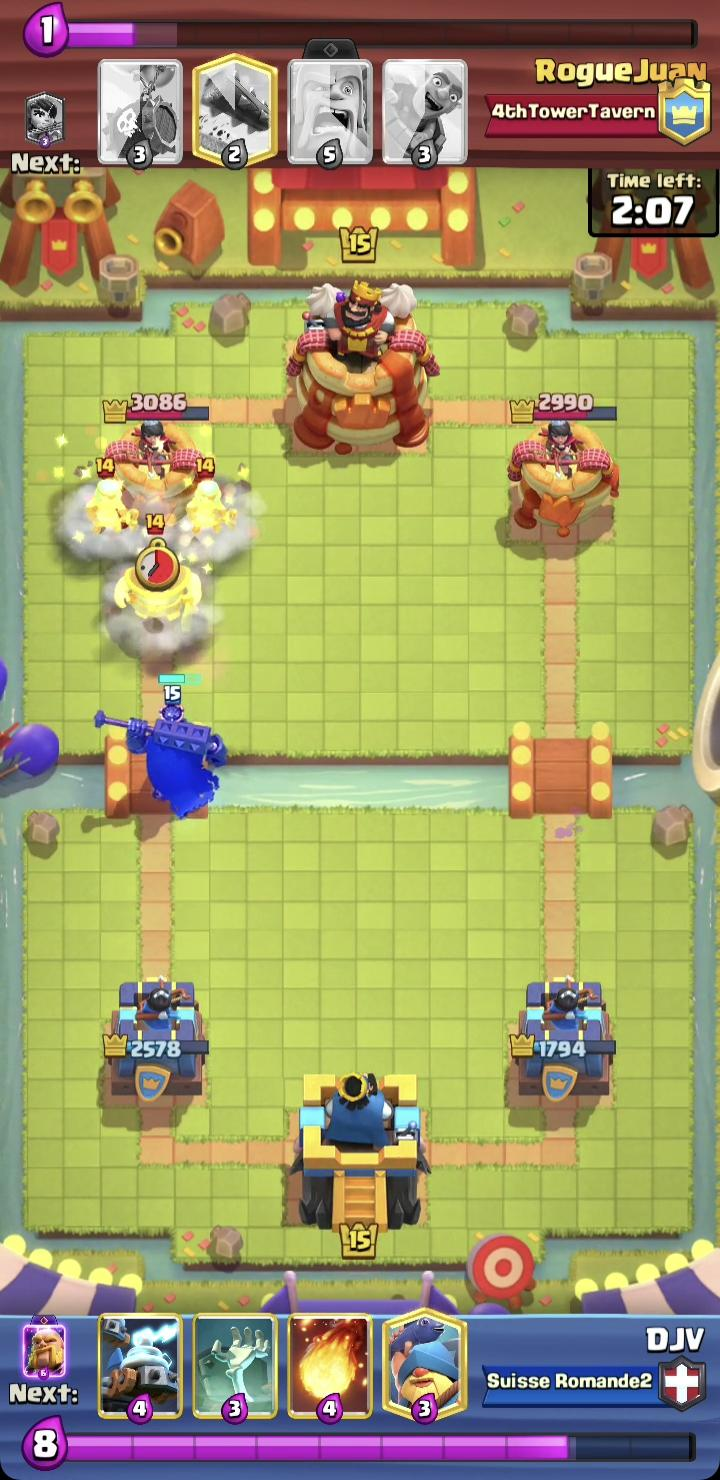ally_skeletonking: (92, 672, 231, 819)
enemy_rascalboy: (114, 512, 202, 627)
enemy_rascalgirl: (181, 457, 243, 541), (88, 454, 134, 535)
